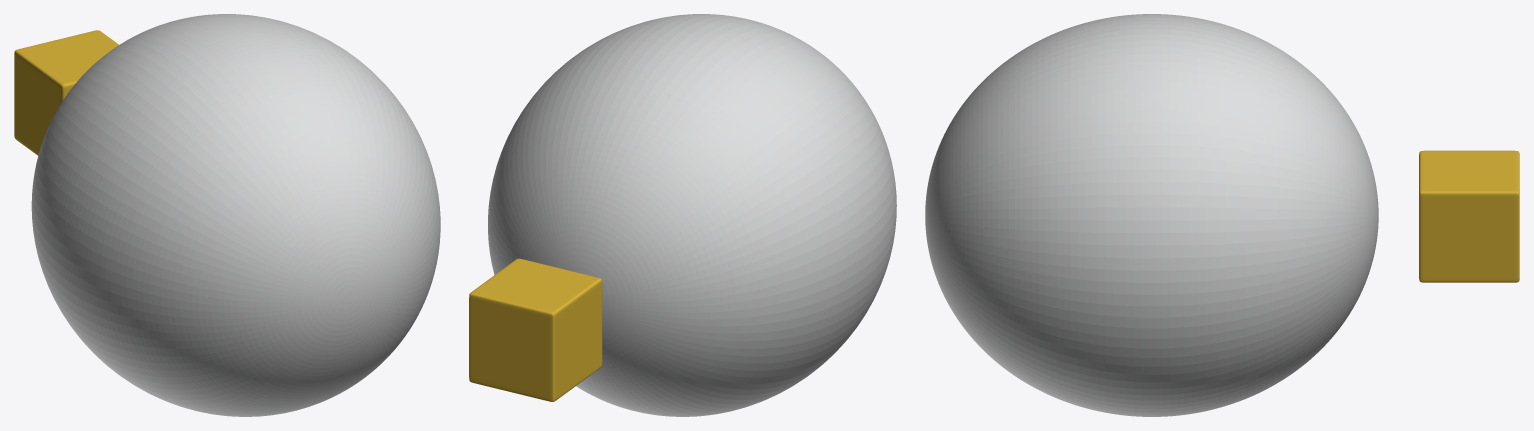
Rendered from balloon-input.glb.
3 views of the same model, side by side, from view 1: azimuth 30°, elevation 25°; view 2: azimuth 150°, elevation 25°; view 3: azimuth 270°, elevation 25° (orthographic).
Visible parts, largest first — view 1: superquadric_0, superquadric_1; view 2: superquadric_0, superquadric_1; view 3: superquadric_0, superquadric_1.
Part boxes in pixels (x1,y1,x2,y2): superquadric_0: [31, 14, 440, 416]; superquadric_1: [14, 30, 118, 155]; superquadric_0: [488, 14, 896, 416]; superquadric_1: [469, 258, 602, 401]; superquadric_0: [925, 14, 1378, 416]; superquadric_1: [1419, 150, 1519, 282].
Bounding box in the file's own units: 0.6777 × 0.6777 × 1.
